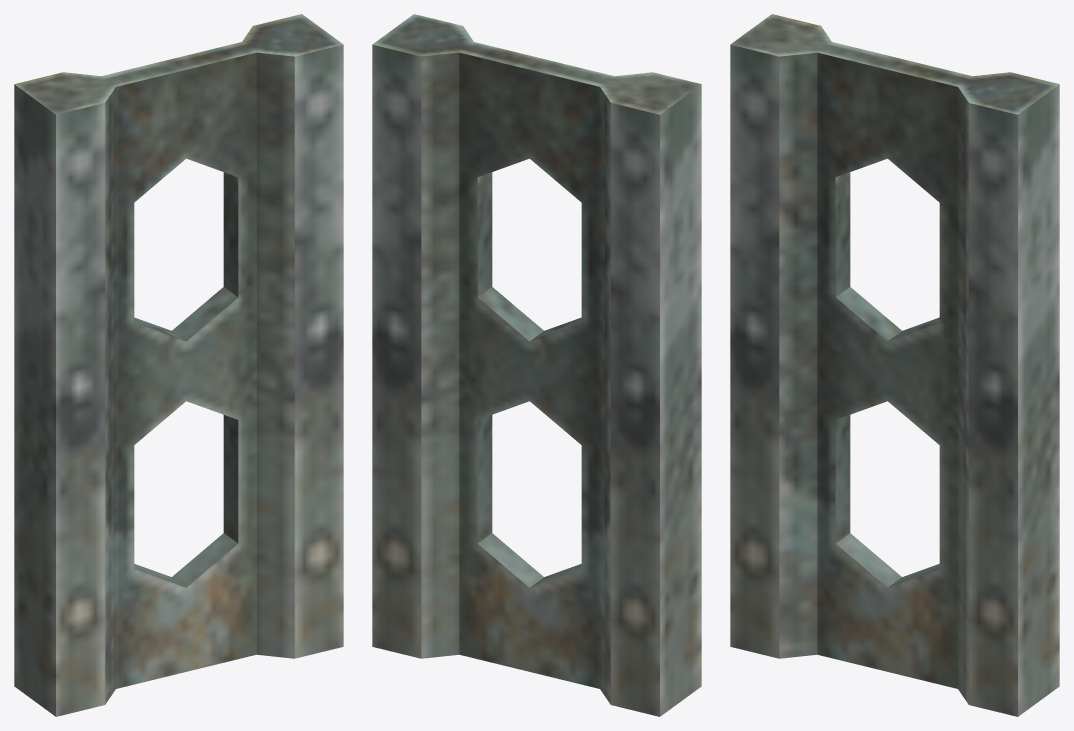
The model's file is Girder_Short.FBX.
3 views of the same model, side by side, from view 1: azimuth 30°, elevation 25°; view 2: azimuth 150°, elevation 25°; view 3: azimuth 330°, elevation 25° (orthographic).
Parts seen in each view (by area): view 1: Girder_Short; view 2: Girder_Short; view 3: Girder_Short.
Part boxes in pixels (box(x1,y1,x2,y2)): Girder_Short: box(14, 14, 343, 716); Girder_Short: box(372, 14, 701, 716); Girder_Short: box(730, 14, 1059, 716).
Size of the model in its own units: 100 by 200 by 25.19.
